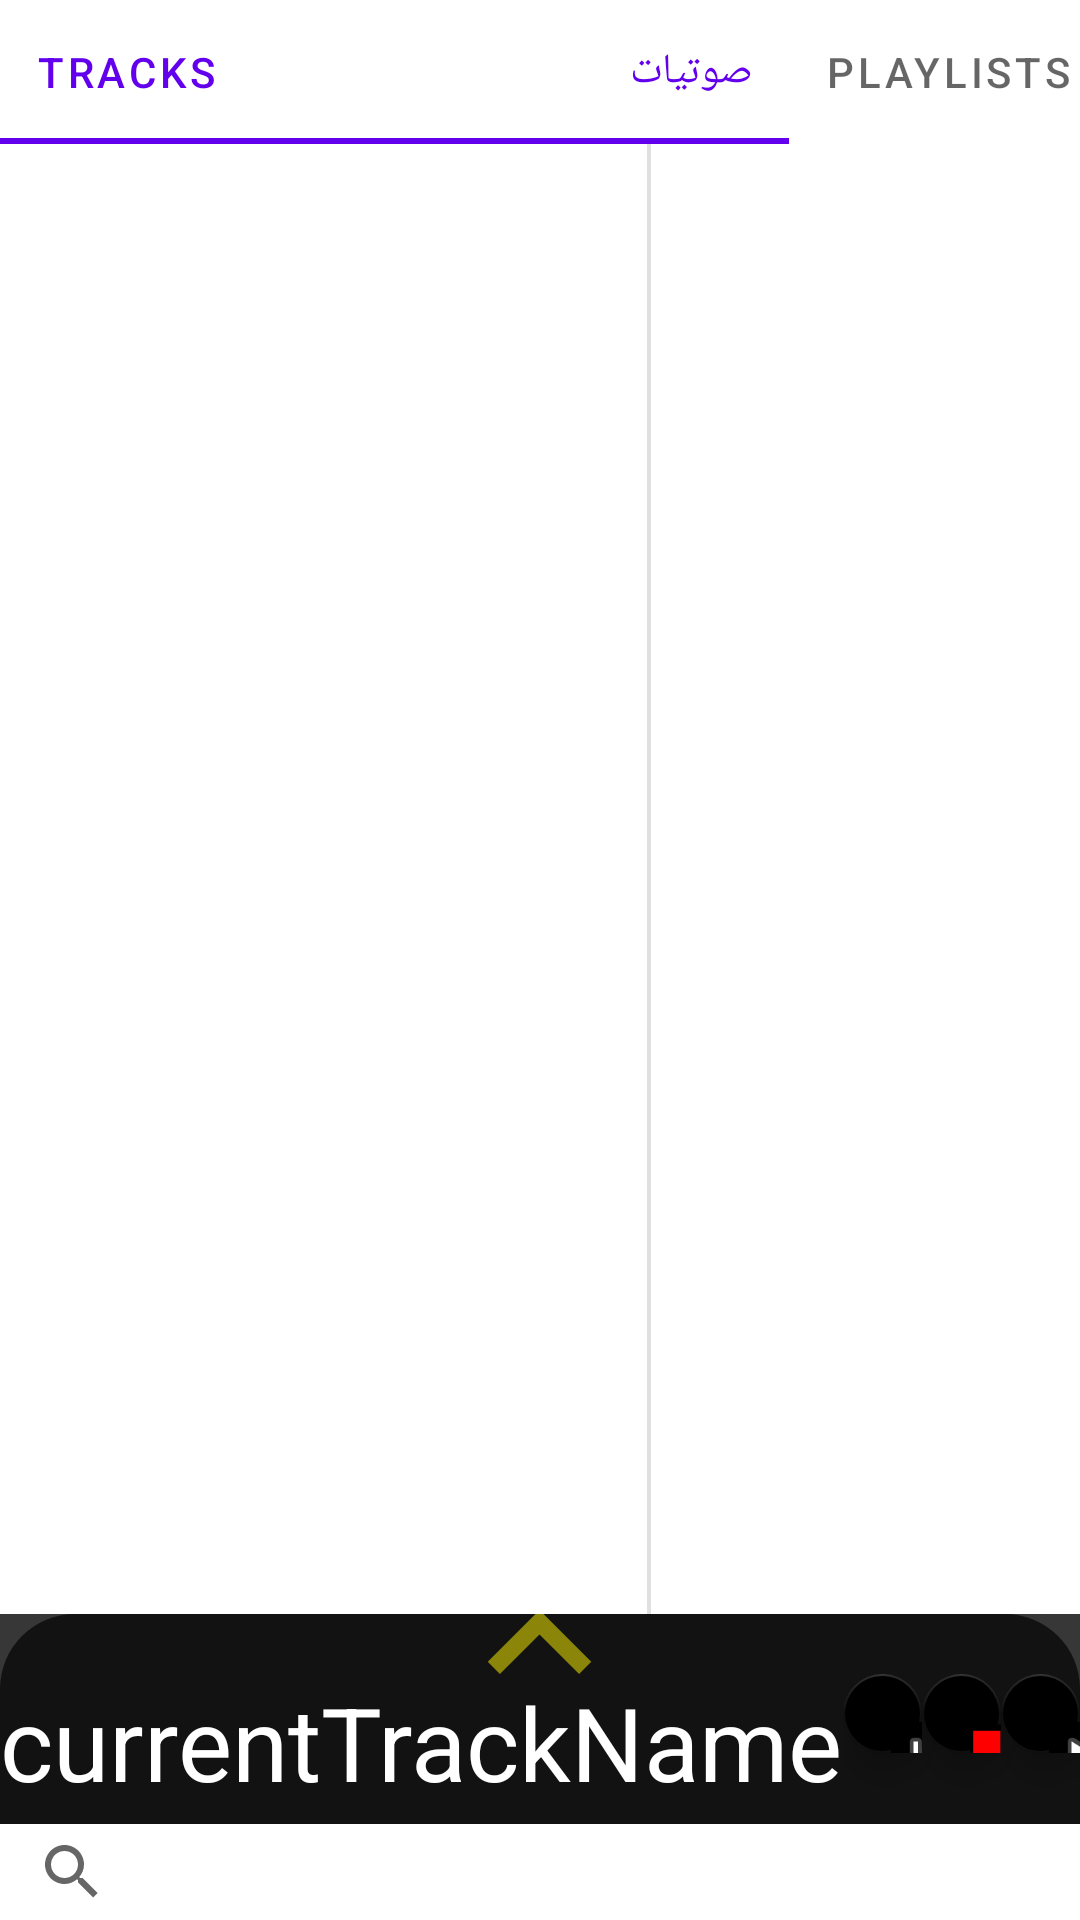

Screen size 1080*1920. Icon name, then its center in pixels as (x,y):
keyboard arrow up: (539,1644)
